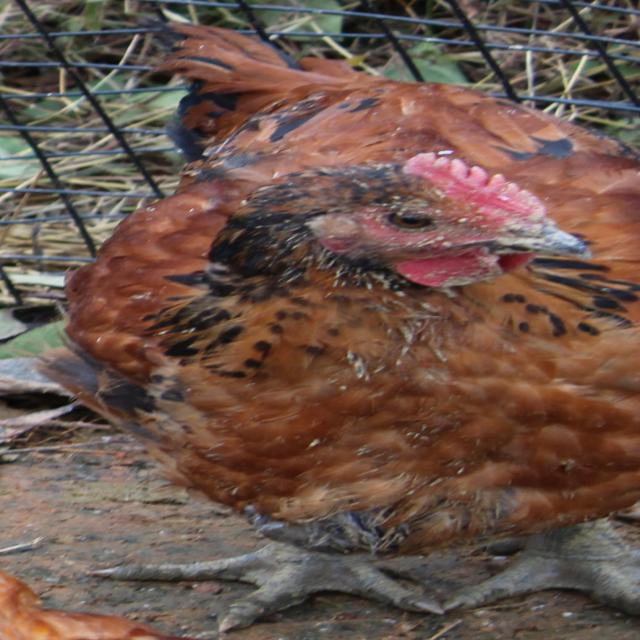hen: (41, 25, 639, 630)
